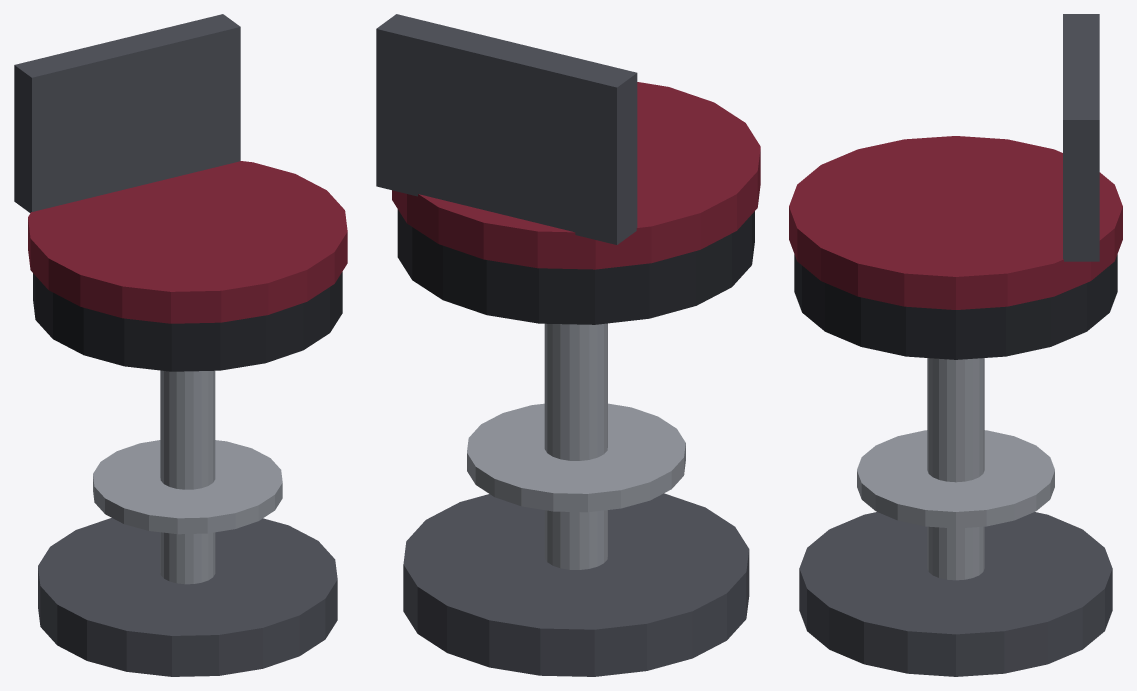
The model's file is stool.glb.
3 renders of one model, left to right at view 1: azimuth 30°, elevation 25°; view 2: azimuth 150°, elevation 25°; view 3: azimuth 270°, elevation 25°, orthographic. The views are drawn at different scales.
Parts seen in each view (by area): view 1: stool; view 2: stool; view 3: stool.
Part boxes in pixels (x1=…): stool: x1=14, y1=14, x2=347, y2=676; stool: x1=376, y1=14, x2=760, y2=676; stool: x1=789, y1=14, x2=1122, y2=676.
Bounding box in the file's own units: 0.64 × 1.15 × 0.64.
